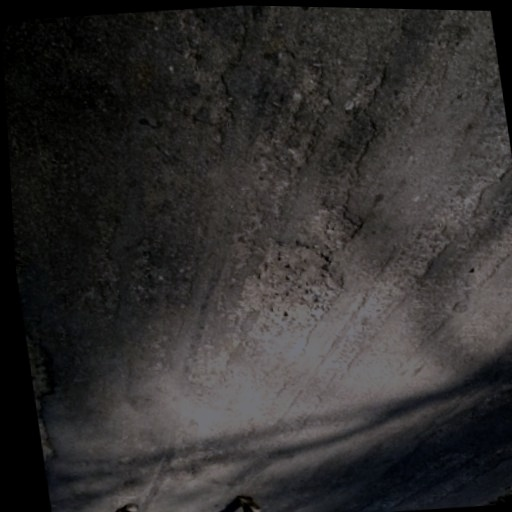pothole: (226, 239, 349, 332), (309, 206, 366, 251)
